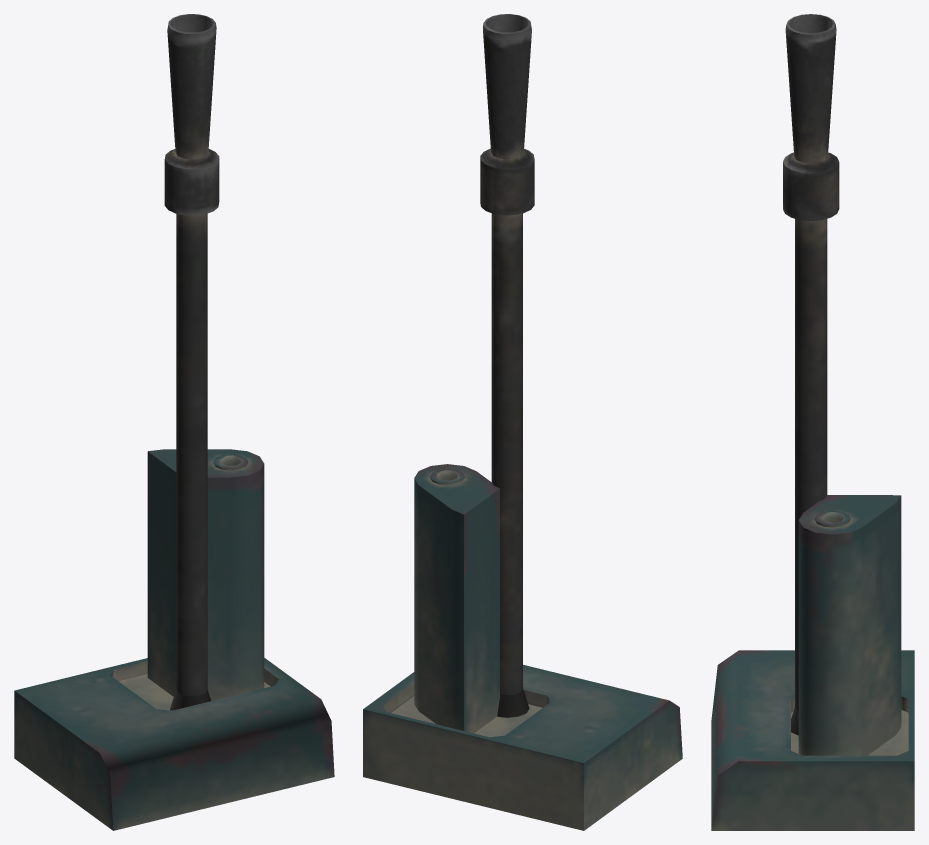
Rendered from Gun_04.glb.
The picture shows the model from 3 angles, left to right: view 1: azimuth 30°, elevation 25°; view 2: azimuth 150°, elevation 25°; view 3: azimuth 270°, elevation 25°; orthographic projection. The views are drawn at different scales.
Visible parts, largest first — view 1: set_0_group_0; view 2: set_0_group_0; view 3: set_0_group_0.
Boxes of the visible parts, left/top/right/bottom form: set_0_group_0: left=14, top=14, right=334, bottom=830; set_0_group_0: left=363, top=14, right=682, bottom=830; set_0_group_0: left=711, top=14, right=914, bottom=830.
Bounding box in the file's own units: 0.2821 × 0.9028 × 0.2186.
1 material, 1 textured.
